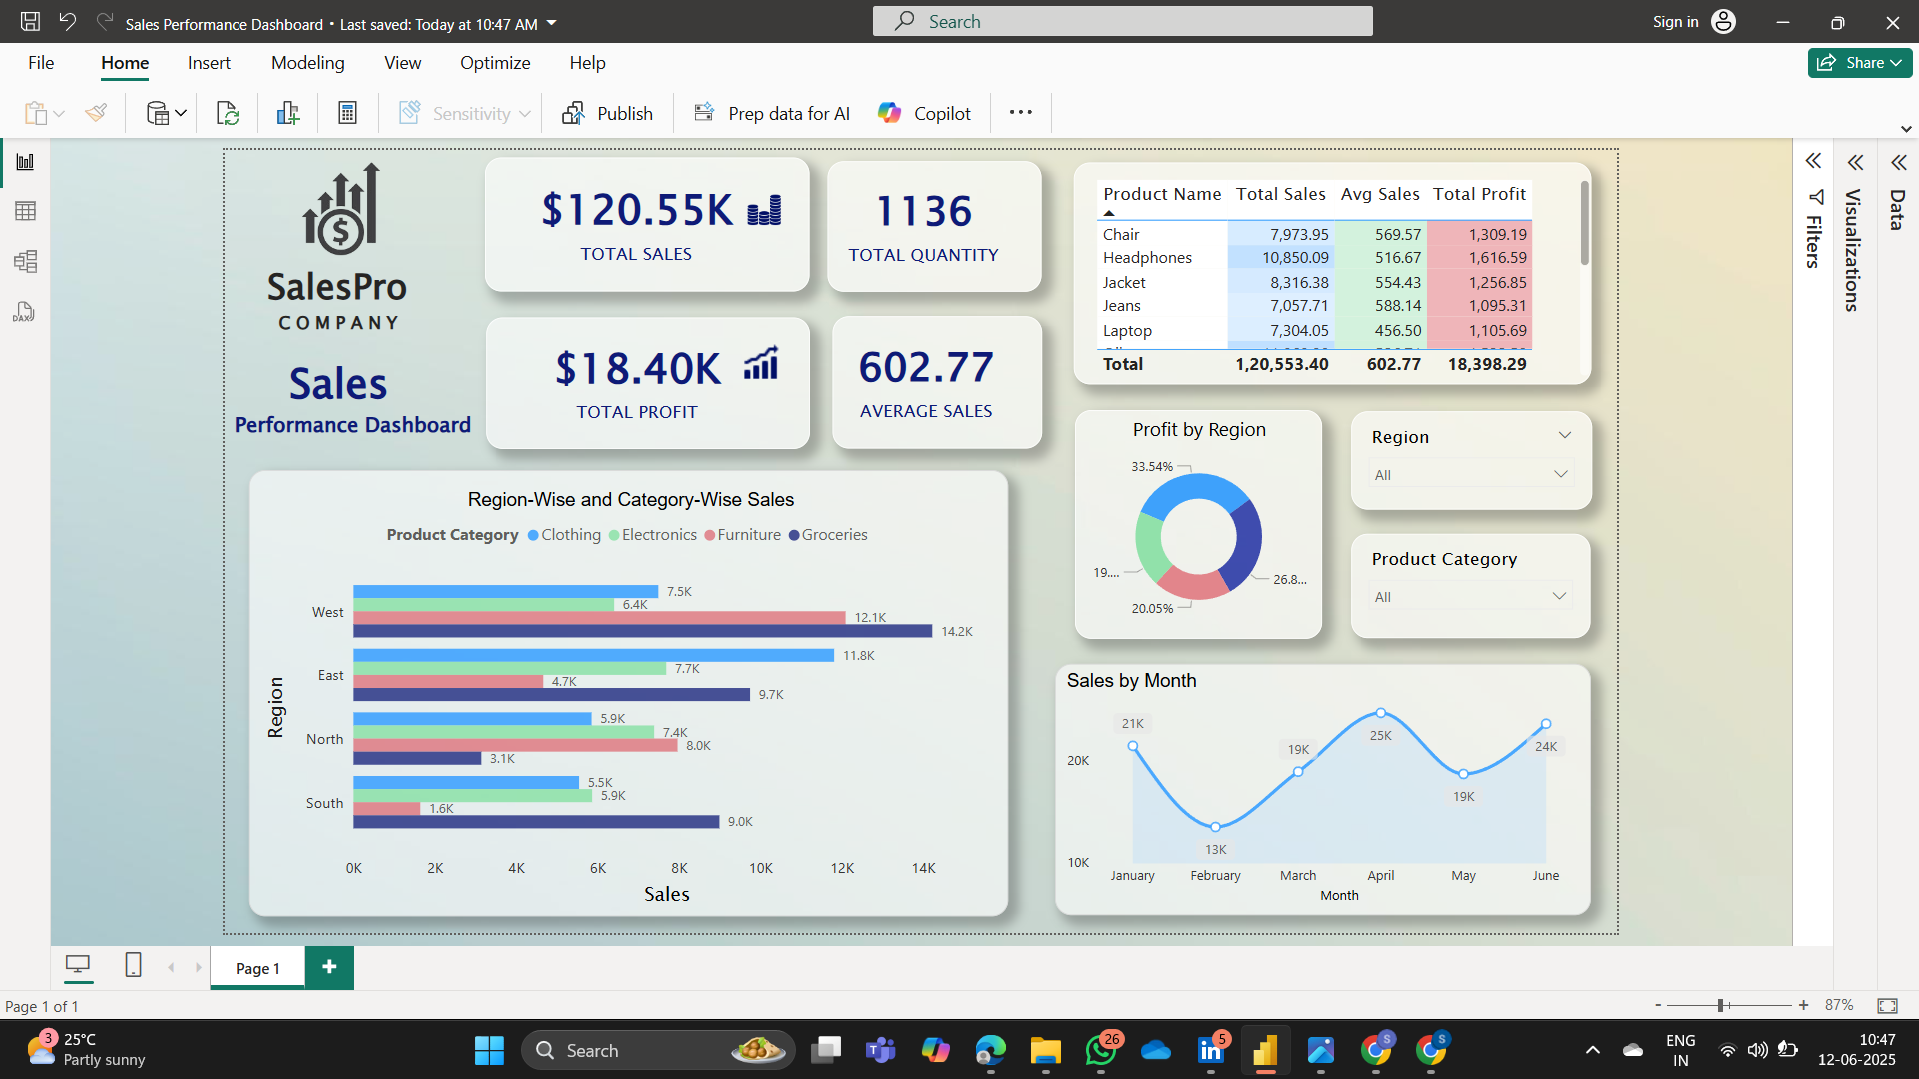

The page's visual inventory and layout, read from the dashboard file:
{"tool":"powerbi","page":{"name":"Page 1","canvas":[1280,720],"ordinal":0},"visuals":[{"type":"image","box":[35.8,0,150.6,106.2],"z":0},{"type":"textbox","box":[22.2,96.3,163,66.7],"z":1000},{"type":"textbox","box":[13.6,142,180.2,40.7],"z":2000},{"type":"textbox","box":[13.6,182.7,193.8,69.1],"z":3000},{"type":"textbox","box":[0,233.3,235.8,67.9],"z":4000},{"type":"clusteredBarChart","title":"Region-Wise and Category-Wise Sales","fields":{"Y":["Sheet1.Sales"],"Category":["Sheet1.Region"],"Series":["Sheet1.Product_Category"]},"box":[21.4,294.3,698.6,410],"z":5000},{"type":"lineChart","title":"   Sales by Month","fields":{"Y":["Sheet1.Sales"],"Category":["Sheet1.Date.Variation.Date Hierarchy.Month"]},"box":[762.9,472.9,492.9,231.4],"z":6000},{"type":"card","fields":{"Values":["Sheet1.Sales"]},"box":[238.6,7.1,298.6,122.9],"z":7000},{"type":"tableEx","fields":{"Values":["Sheet1.Product_Name","Sheet1.Sales","Sales Data.Avg Sales","Sales Data.Profit"]},"box":[780,11.4,475.7,204.3],"z":8000},{"type":"image","box":[468.3,34.1,56.1,40.2],"z":9000},{"type":"card","title":"Total Profit","fields":{"Values":["Sheet1.Profit"]},"box":[240.2,154,297.7,120.7],"z":10000},{"type":"image","box":[460.9,170.1,63.2,50.6],"z":11000},{"type":"card","title":"Total Quality","fields":{"Values":["Sheet1.Quantity"]},"box":[554.3,10,197.1,120],"z":12000},{"type":"card","title":"Total Quality","fields":{"Values":["Sales Data.Avg Sales"]},"box":[558.6,152.9,192.9,121.4],"z":13000},{"type":"donutChart","title":"Profit by Region","fields":{"Y":["Sales Data.Profit"],"Category":["Sales Data.Region"]},"box":[781.4,238.6,227.1,210],"z":14000},{"type":"slicer","fields":{"Values":["Sheet1.Product_Category"]},"box":[1035.7,352.9,220,95.7],"z":16000},{"type":"slicer","fields":{"Values":["Sales Data.Region"]},"box":[1035.7,240,221.4,90],"z":17000}]}

Visuals, with their boxes on the page's 1280x720 design canvas (x1, y1, x2, y2). These are canvas units, not pixel positions in the 1919x1079 screenshot, which may show the page scaled, cropped or inside an application window:
image: {"x1": 36, "y1": 0, "x2": 186, "y2": 106}
textbox: {"x1": 22, "y1": 96, "x2": 185, "y2": 163}
textbox: {"x1": 14, "y1": 142, "x2": 194, "y2": 183}
textbox: {"x1": 14, "y1": 183, "x2": 207, "y2": 252}
textbox: {"x1": 0, "y1": 233, "x2": 236, "y2": 301}
"Region-Wise and Category-Wise Sales" clusteredBarChart: {"x1": 21, "y1": 294, "x2": 720, "y2": 704}
"   Sales by Month" lineChart: {"x1": 763, "y1": 473, "x2": 1256, "y2": 704}
card - Sheet1.Sales: {"x1": 239, "y1": 7, "x2": 537, "y2": 130}
tableEx - Sheet1.Product_Name x Sheet1.Sales: {"x1": 780, "y1": 11, "x2": 1256, "y2": 216}
image: {"x1": 468, "y1": 34, "x2": 524, "y2": 74}
"Total Profit" card: {"x1": 240, "y1": 154, "x2": 538, "y2": 275}
image: {"x1": 461, "y1": 170, "x2": 524, "y2": 221}
"Total Quality" card: {"x1": 554, "y1": 10, "x2": 751, "y2": 130}
"Total Quality" card: {"x1": 559, "y1": 153, "x2": 752, "y2": 274}
"Profit by Region" donutChart: {"x1": 781, "y1": 239, "x2": 1008, "y2": 449}
slicer - Sheet1.Product_Category: {"x1": 1036, "y1": 353, "x2": 1256, "y2": 449}
slicer - Sales Data.Region: {"x1": 1036, "y1": 240, "x2": 1257, "y2": 330}
